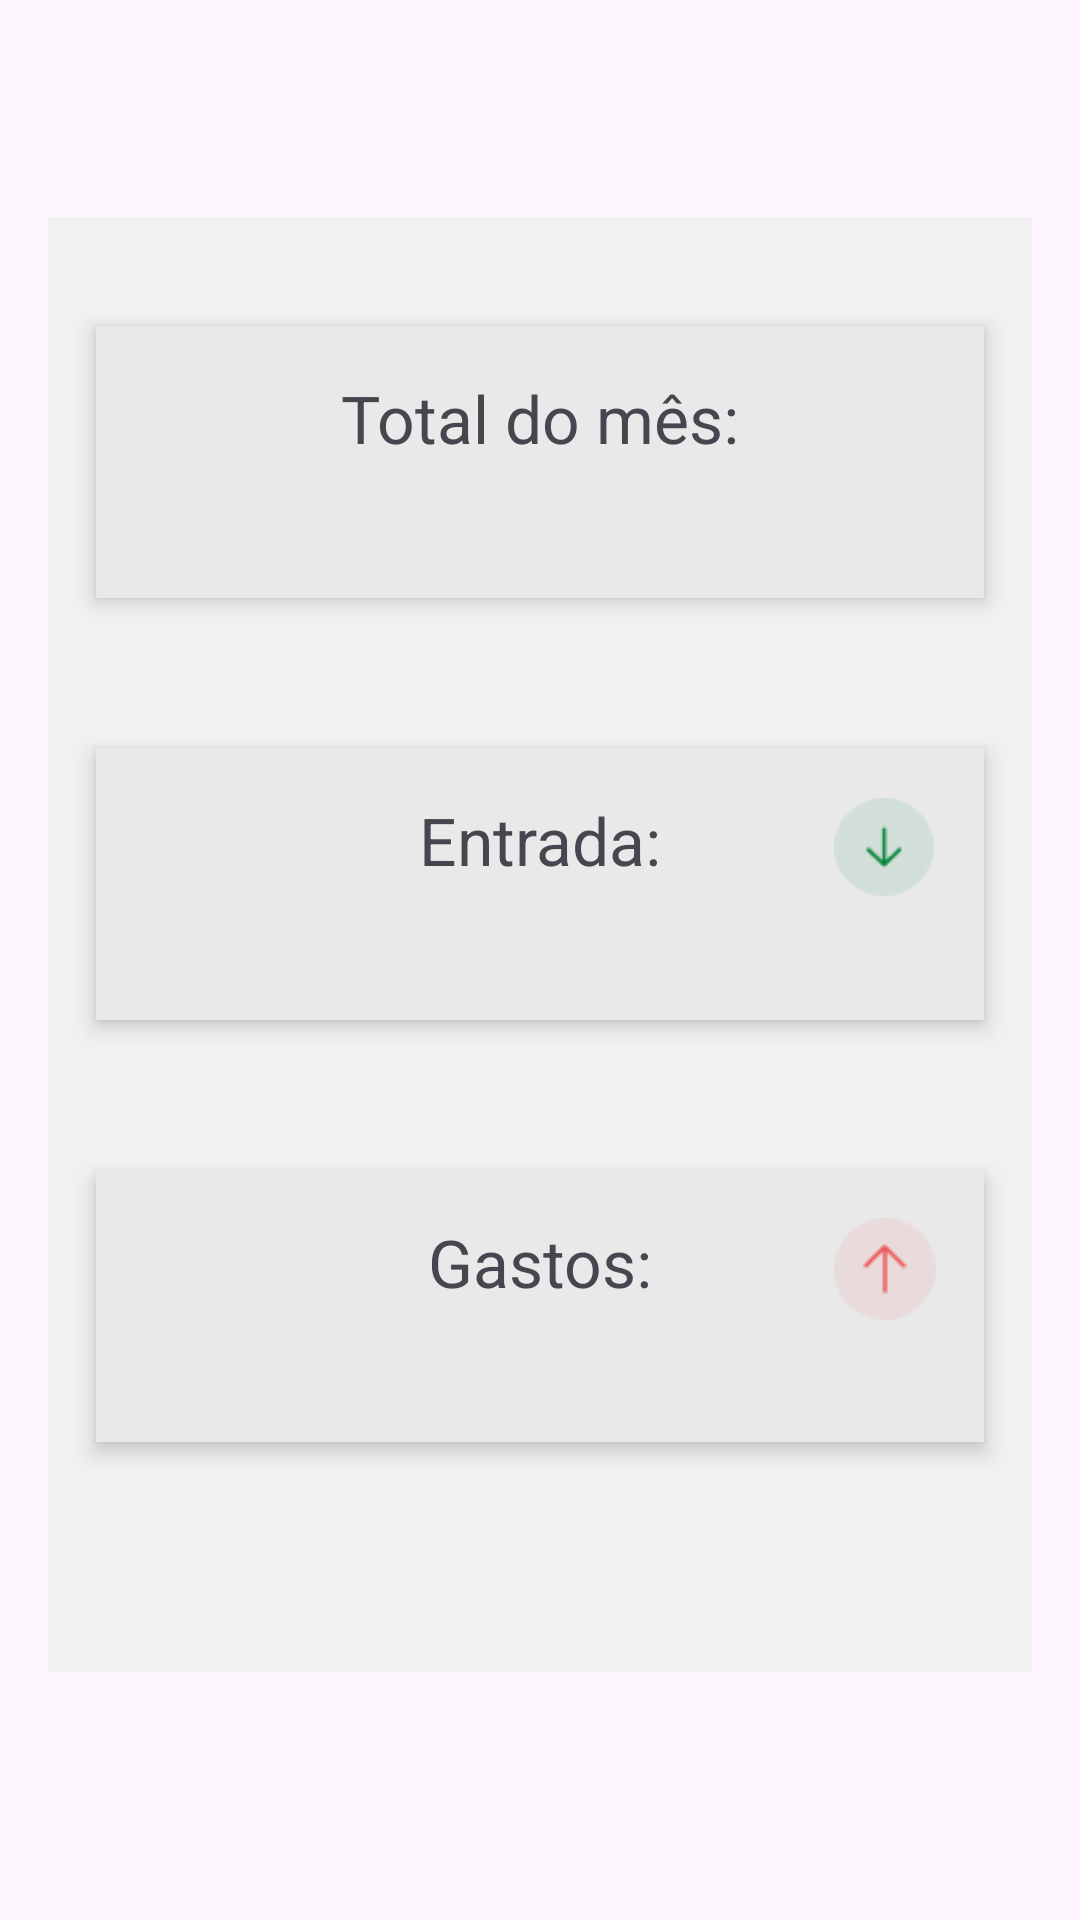

Named icons in this screenshot (1080*1920) and their bounding boxes, {"left": x1, "top": y1, "right": x2, "bottom": y2}:
arrow entrada: {"left": 834, "top": 798, "right": 934, "bottom": 896}
arrow gastos: {"left": 834, "top": 1218, "right": 936, "bottom": 1320}
